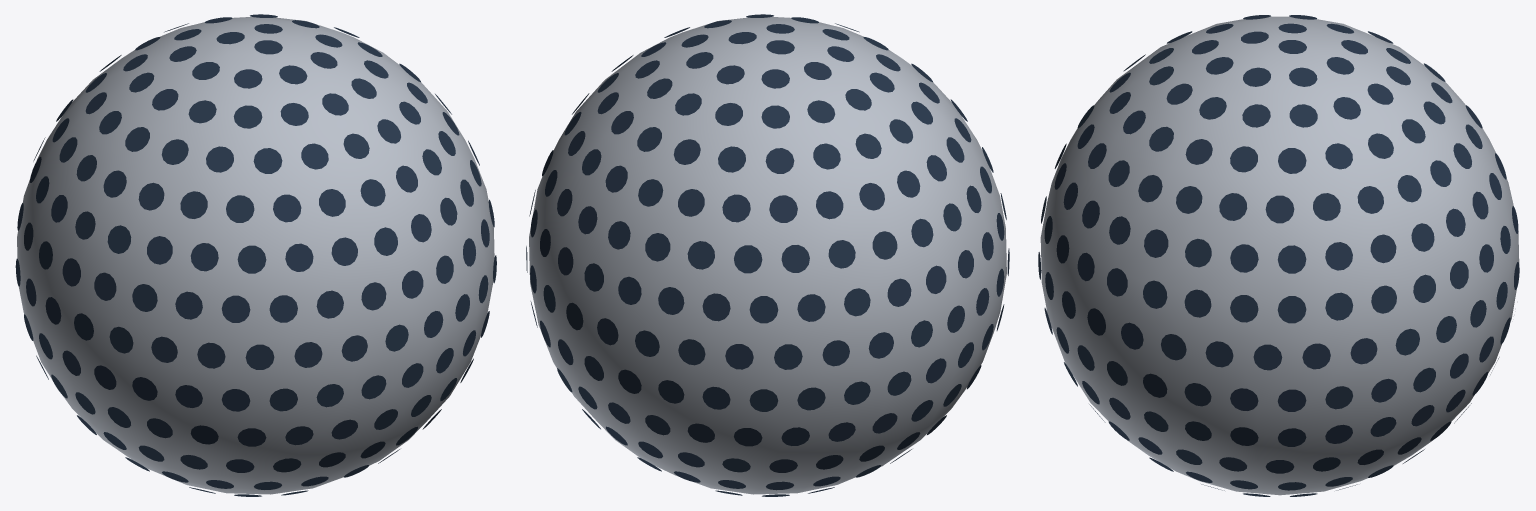
Rendered from lares2.glb.
3 views of the same model, side by side, from view 1: azimuth 30°, elevation 25°; view 2: azimuth 150°, elevation 25°; view 3: azimuth 270°, elevation 25° (orthographic).
Visible parts, largest first — view 1: body, solar-panel; view 2: body, solar-panel; view 3: body, solar-panel.
Part boxes in pixels (x1=…): body: x1=17, y1=17, x2=494, y2=494; solar-panel: x1=15, y1=14, x2=496, y2=496; body: x1=529, y1=17, x2=1006, y2=494; solar-panel: x1=526, y1=14, x2=1009, y2=496; body: x1=1040, y1=16, x2=1519, y2=495; solar-panel: x1=1038, y1=15, x2=1519, y2=496.
Bounding box in the file's own units: 0.4271 × 0.4267 × 0.4266.
